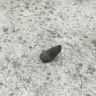Dog: (40, 45, 62, 63)
